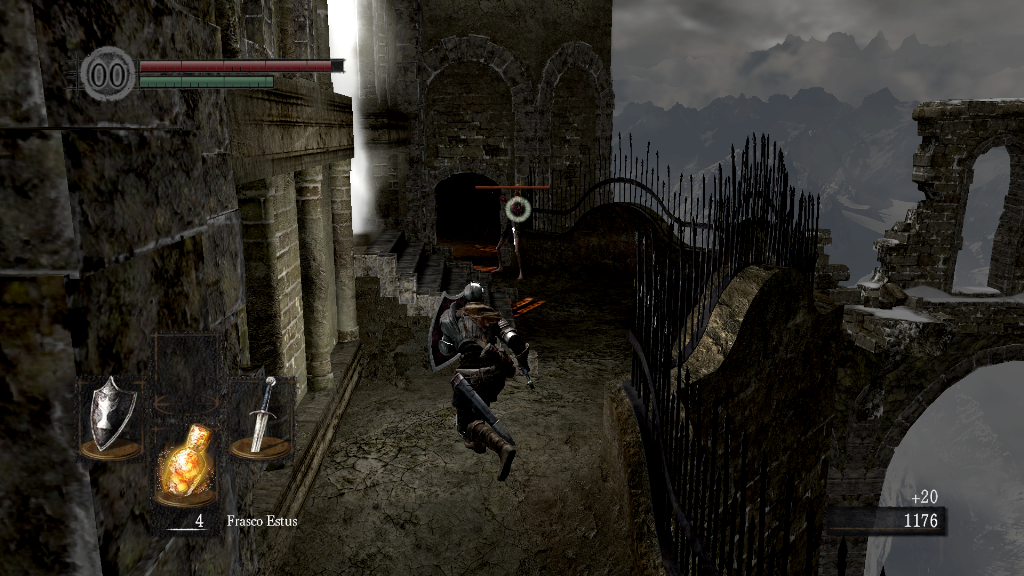health: (138, 58, 343, 71)
hollow: (494, 189, 535, 287)
humanity: (80, 45, 136, 102)
player: (426, 280, 537, 481)
souls: (825, 506, 945, 536)
stamina: (138, 74, 274, 88)
